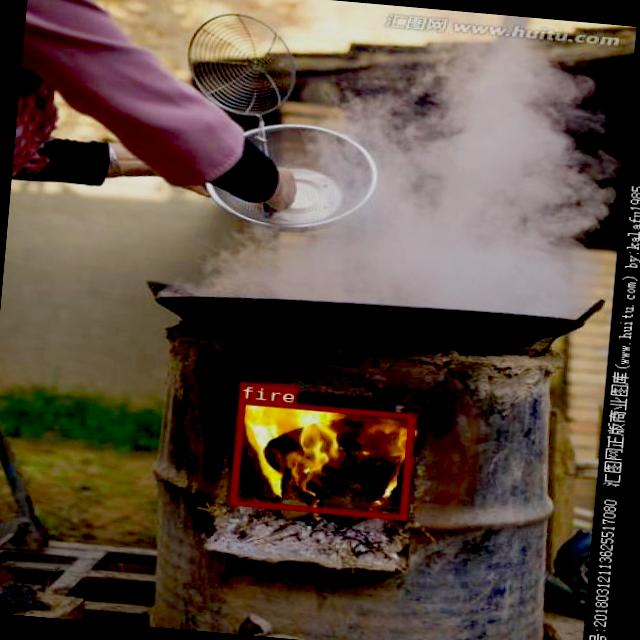fire: (228, 398, 414, 519)
